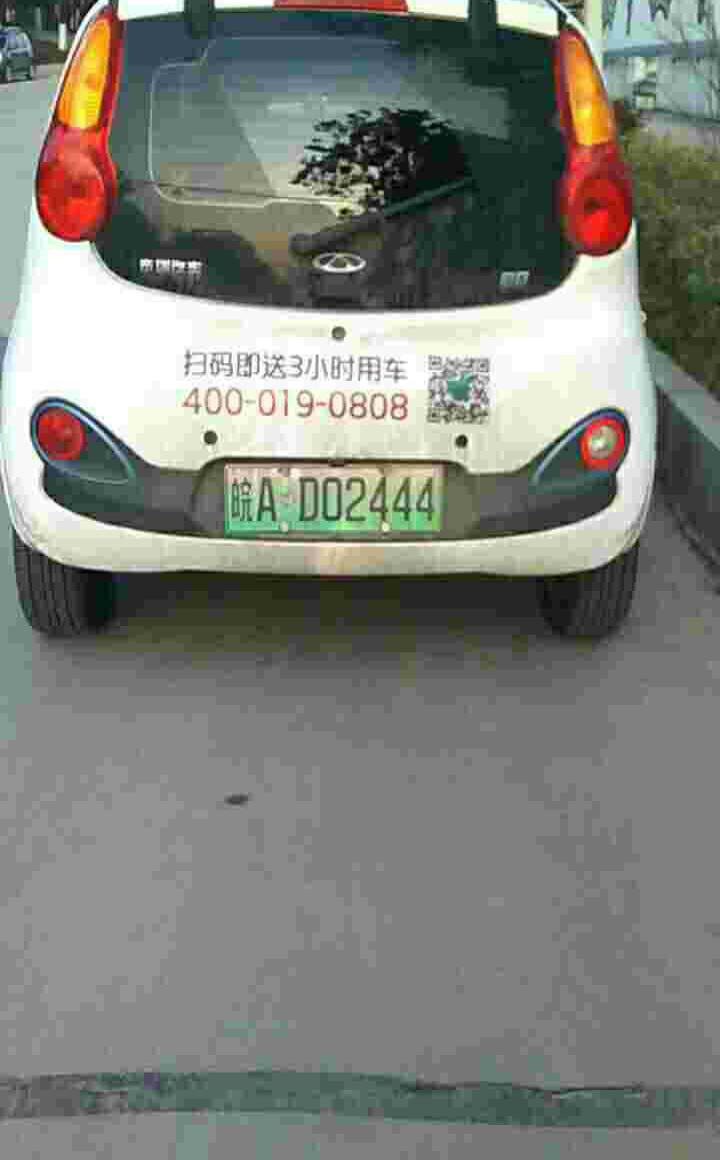car_green: (224, 462, 443, 532)
